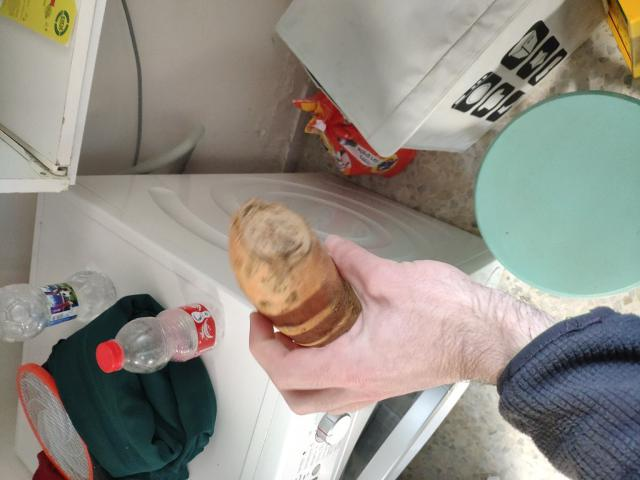sweet_potato: (221, 206, 355, 336)
